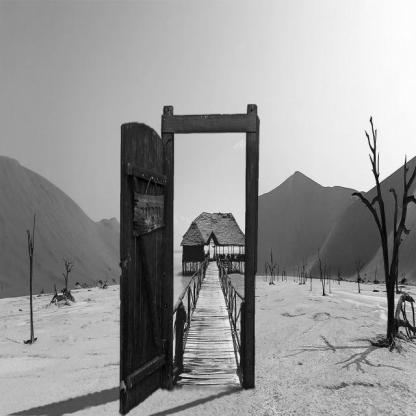door: (115, 95, 274, 416)
